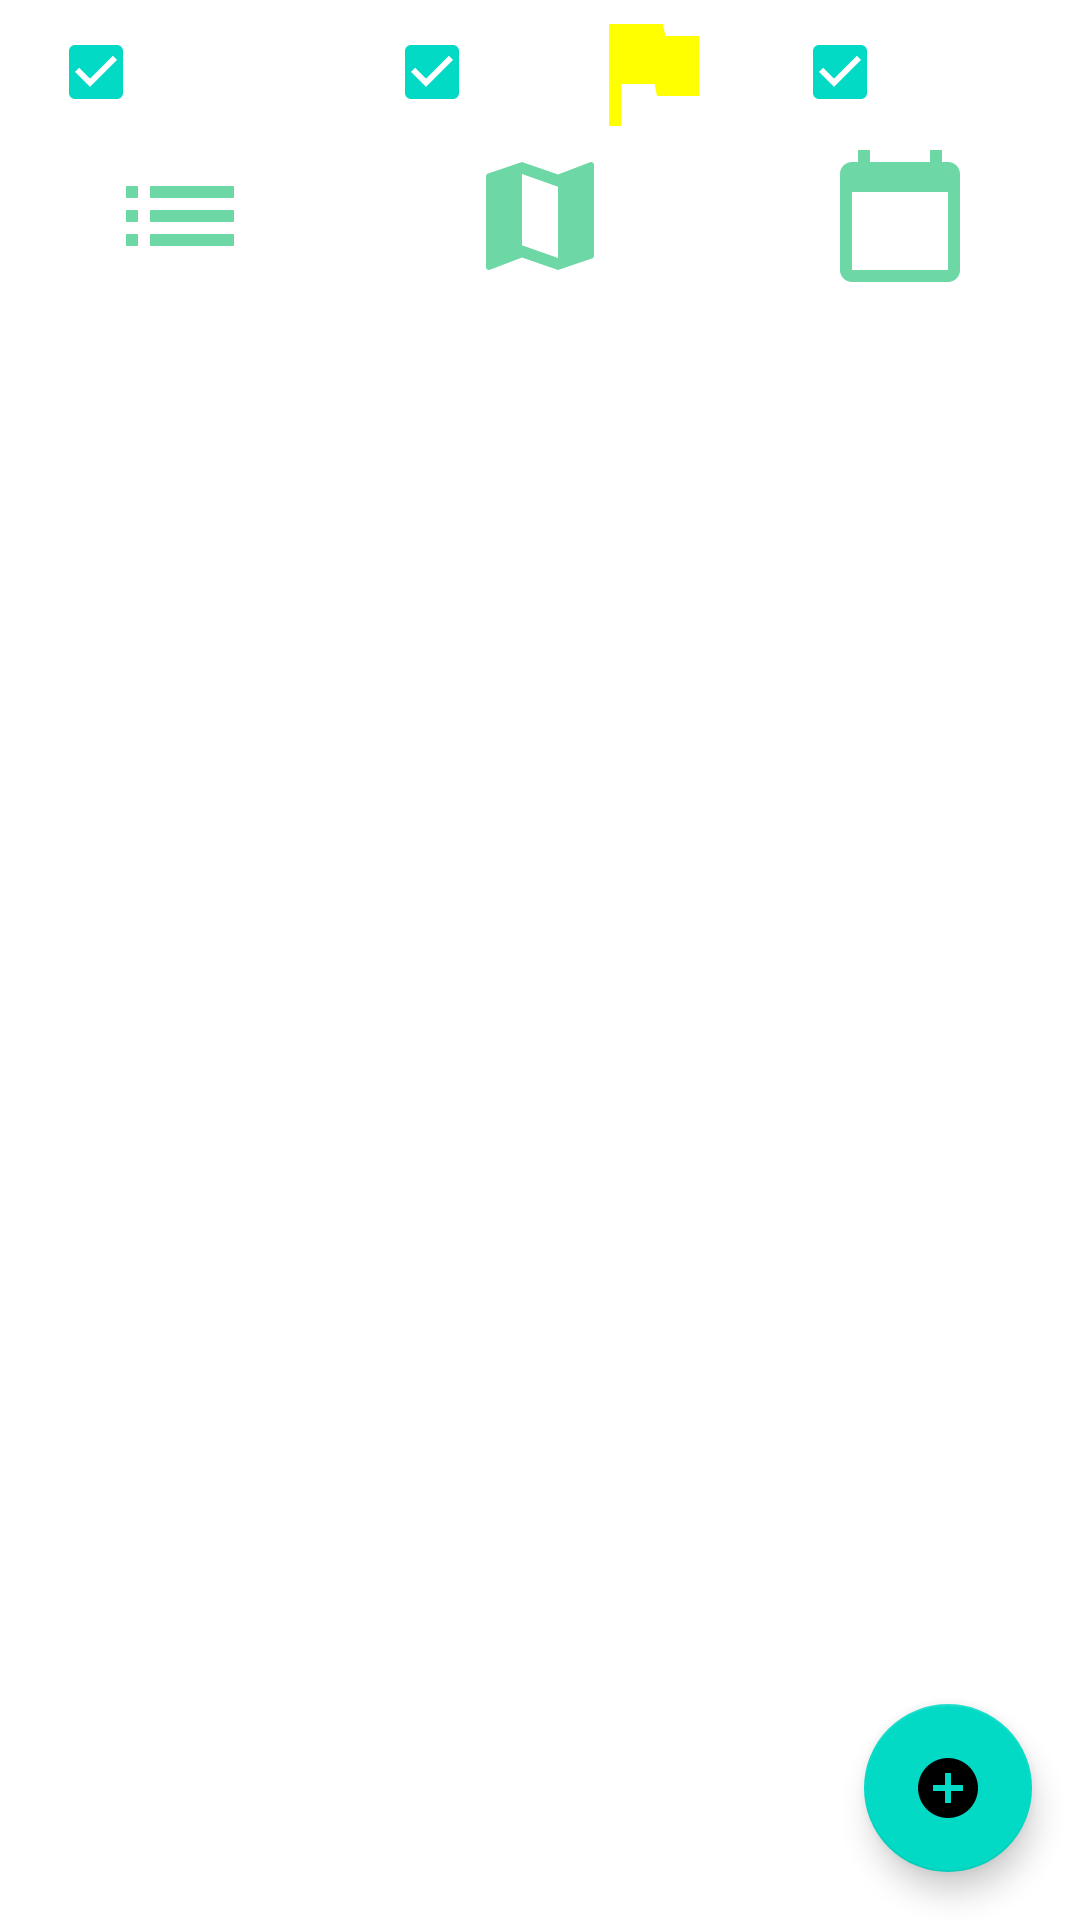

Icons on this 1080w x 1920h Android screen, each with the point to tap as (x=x, y=y):
add circle: (x=948, y=1788)
bouton calendrier: (x=900, y=216)
bouton carte: (x=540, y=216)
bouton liste: (x=180, y=216)
flag: (x=654, y=75)
